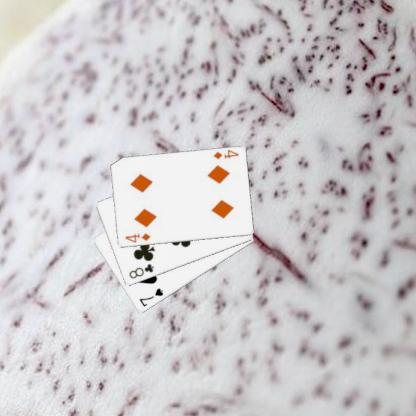4D: (122, 231, 152, 244), (210, 148, 240, 160)
7S: (136, 285, 165, 308)
8C: (126, 261, 155, 280)
